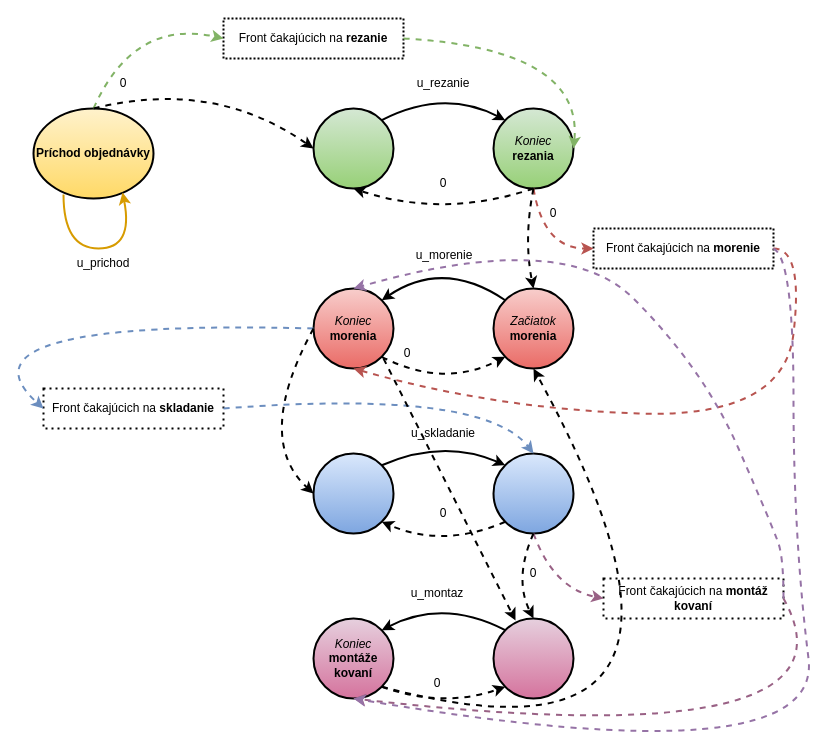
The diagram is 827 pixels wide and 749 high, and some of its shapes have lost their labels. Here are the shapes that lost their labels. From the top down, the box of each, then its label:
(312, 107, 394, 189): Začiatok rezania
(312, 452, 394, 534): Začiatok skladania
(492, 452, 574, 534): Koniec skladania
(492, 617, 574, 699): Začiatok montáže kovaní
